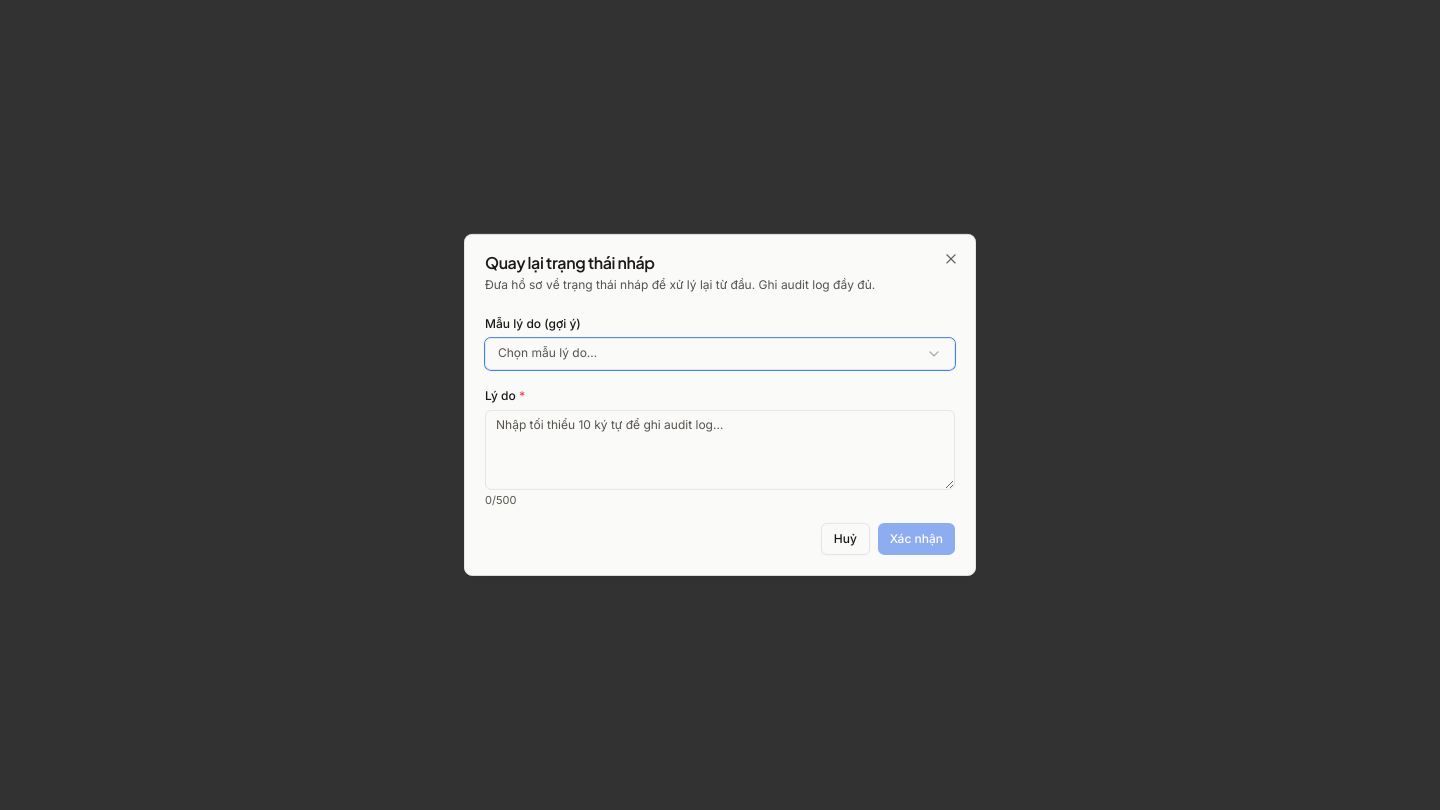
Test case: AuditReasonDialog › character counter reflects current length
This screenshot has width=1440, height=810.
Type "abc" into the text box with test id "audit-reason-textarea" at (720, 449), box [485, 409, 955, 489]
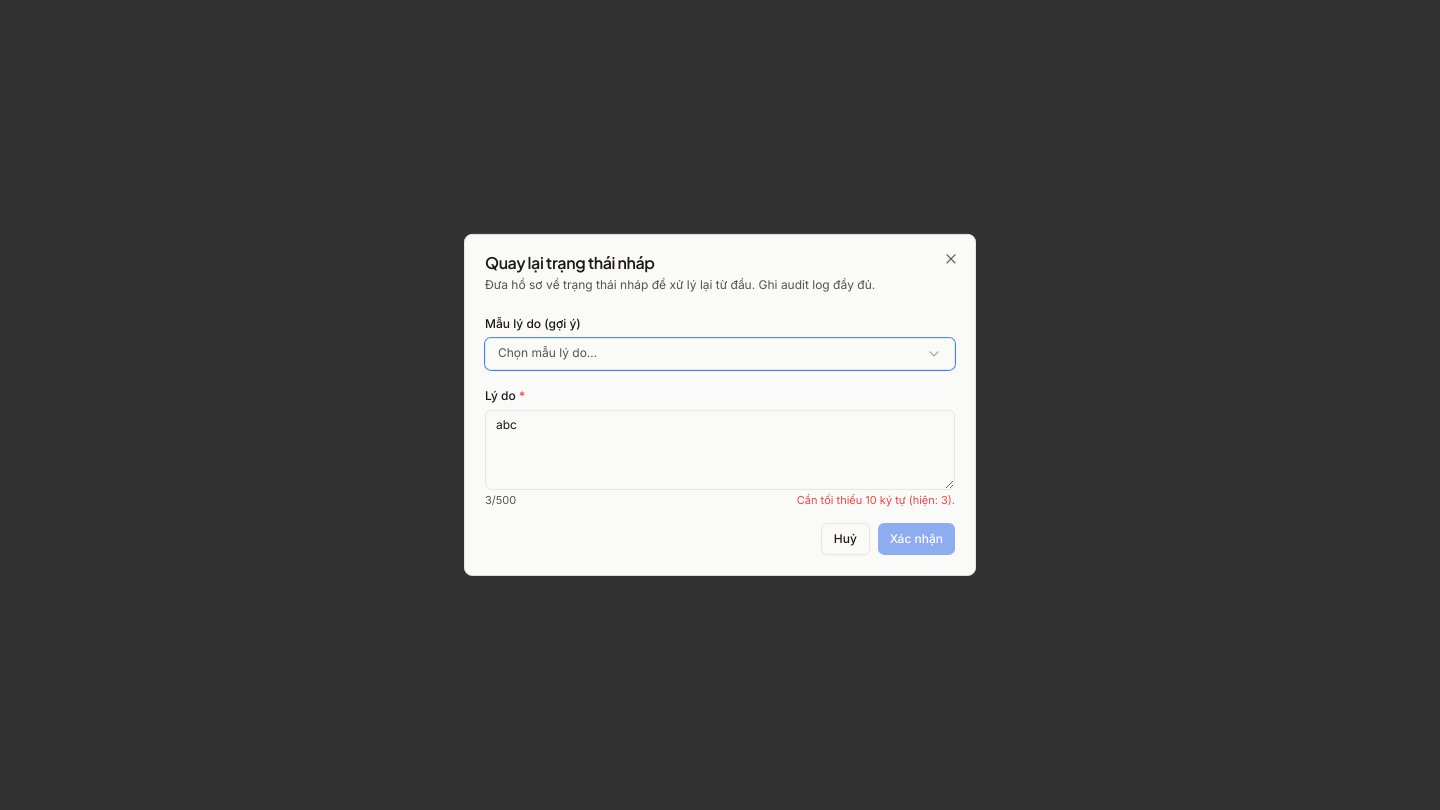
Expected: the text with test id "audit-reason-counter" reads "3/500", [485, 493, 516, 507]
